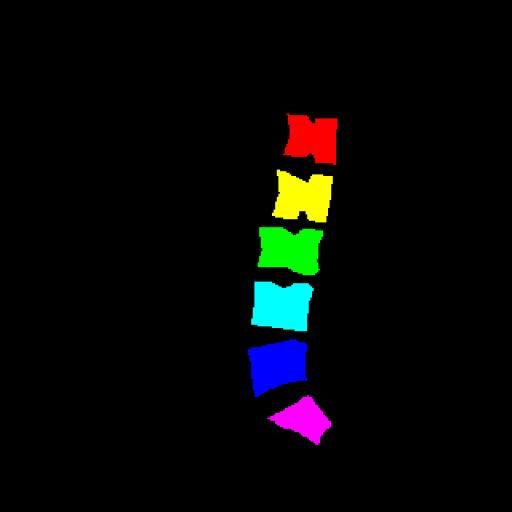L1: (284, 114, 338, 164)
L2: (272, 170, 333, 223)
L3: (258, 227, 323, 275)
L4: (251, 282, 313, 330)
L5: (248, 339, 307, 396)
S1: (268, 396, 331, 445)
